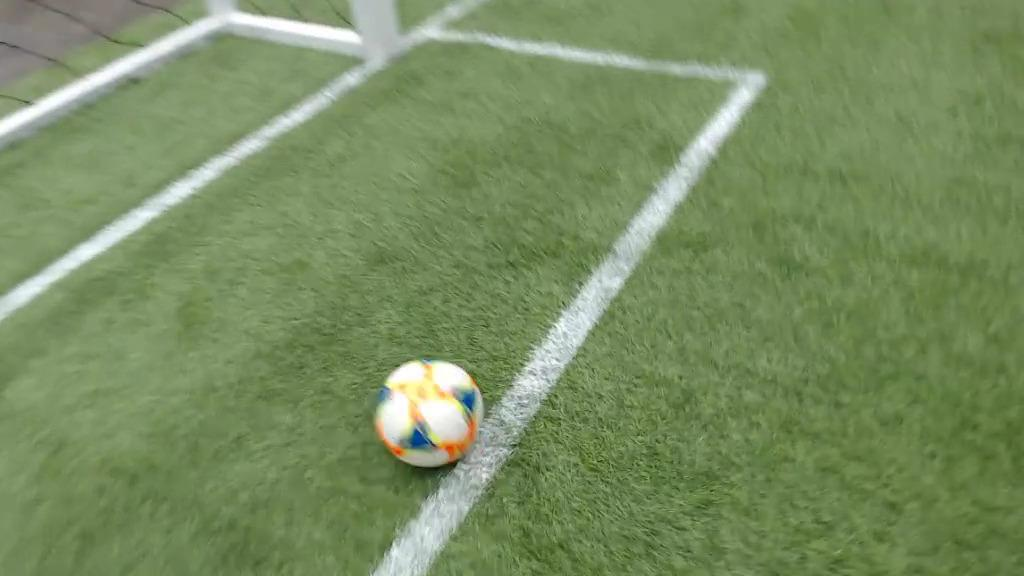ball: (362, 340, 502, 485)
